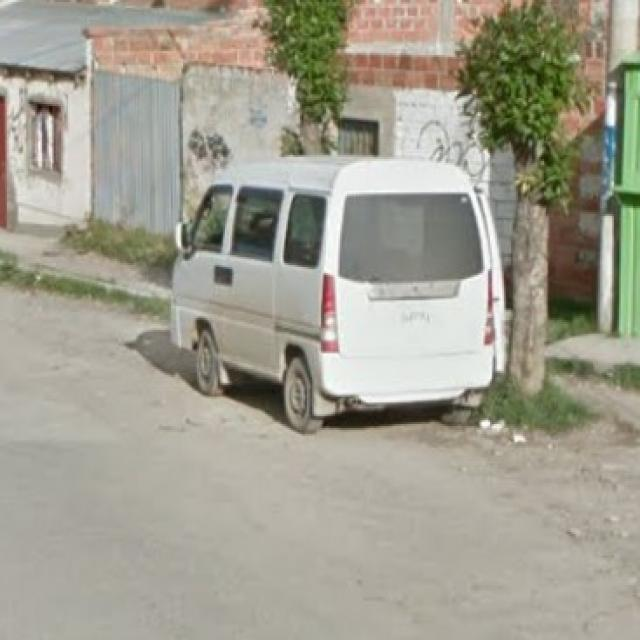truck: (169, 164, 513, 434)
